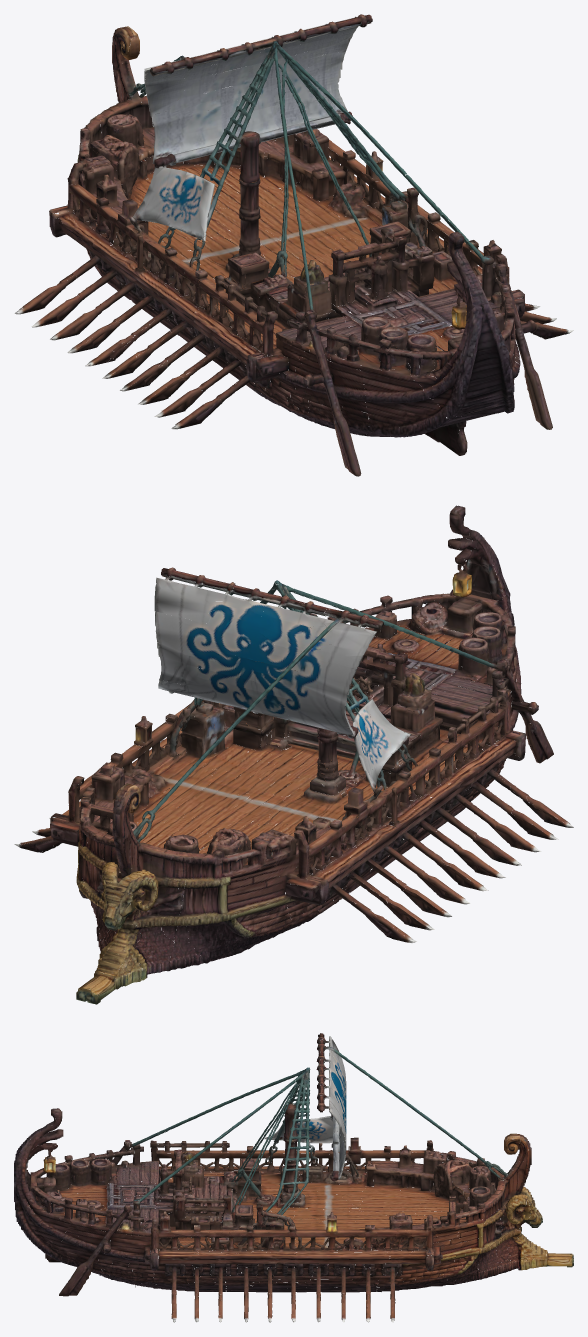
The model's file is full-boat-v3.glb.
3 renders of one model, top to bottom at view 1: azimuth 30°, elevation 25°; view 2: azimuth 150°, elevation 25°; view 3: azimuth 270°, elevation 25°, orthographic. The views are drawn at different scales.
Parts seen in each view (by area): view 1: tripo_node_02b50d2a-160b-4bb5-9f90-fc61354bcf5a; view 2: tripo_node_02b50d2a-160b-4bb5-9f90-fc61354bcf5a; view 3: tripo_node_02b50d2a-160b-4bb5-9f90-fc61354bcf5a.
Boxes of the visible parts, bbox=[...] form: tripo_node_02b50d2a-160b-4bb5-9f90-fc61354bcf5a: bbox=[14, 14, 573, 476]; tripo_node_02b50d2a-160b-4bb5-9f90-fc61354bcf5a: bbox=[14, 505, 573, 1004]; tripo_node_02b50d2a-160b-4bb5-9f90-fc61354bcf5a: bbox=[14, 1033, 573, 1322].
Size of the model in its own units: 0.567 by 0.3781 by 0.9782.
Materials: 1 (1 with a texture image).
